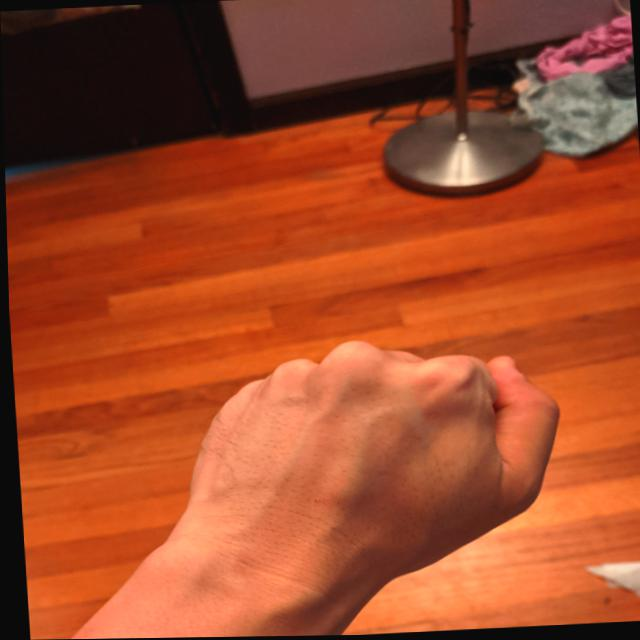A: (158, 325, 572, 605)
